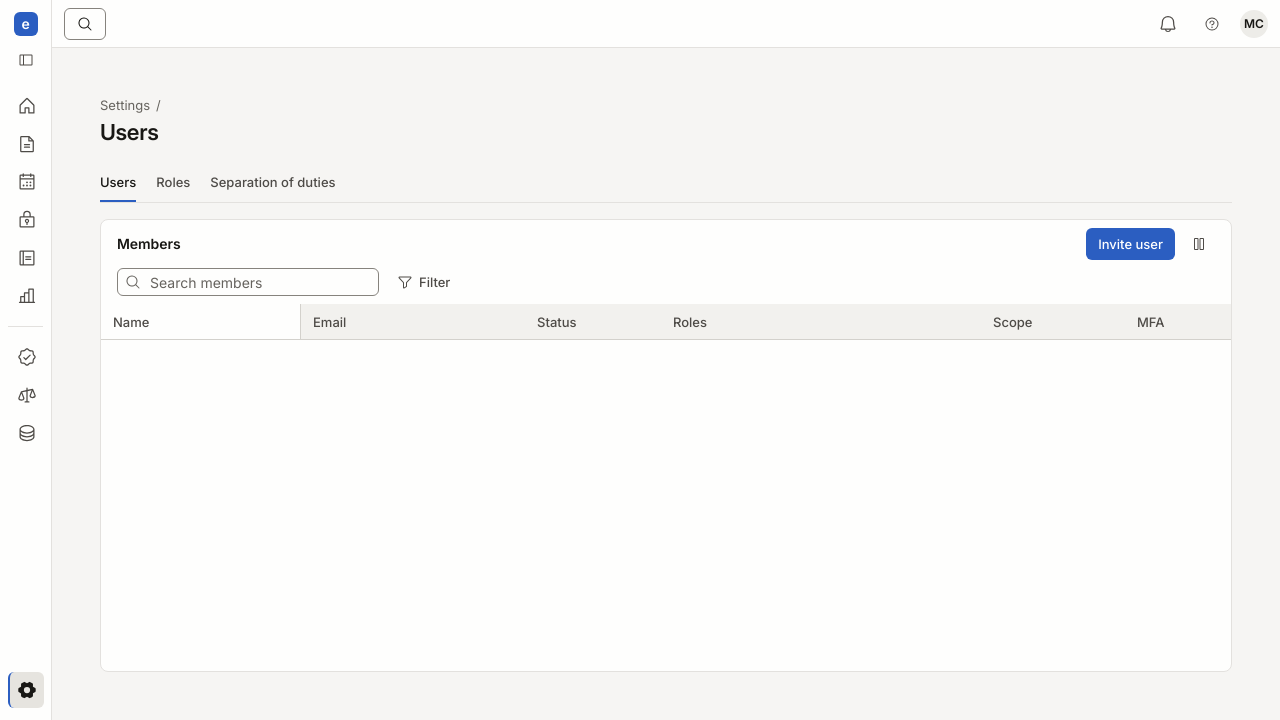
Test: SF-14 › Invite user opens the drawer with Email, Display name and repeatable Role and Scope rows
This screenshot has width=1280, height=720.
Click the button "Invite user".
click(1131, 244)  # box x1=1086 y1=228 x2=1175 y2=260
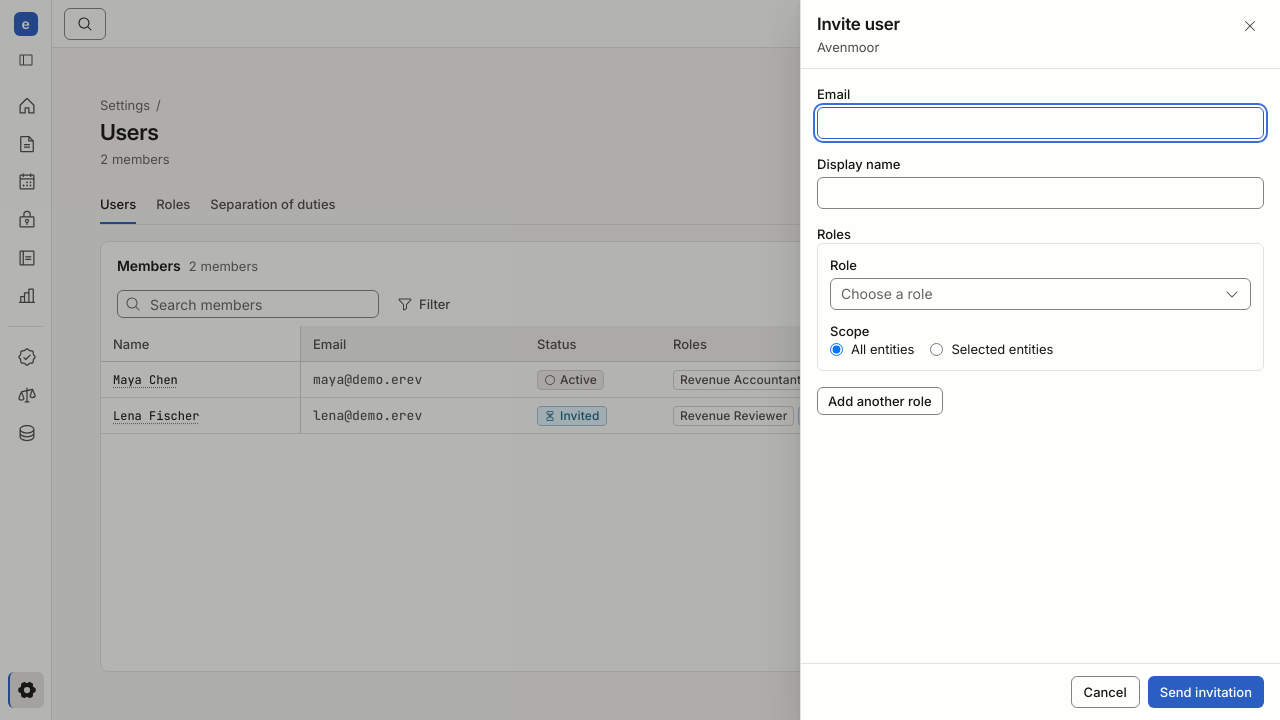
Expected: the form with test id "SF-14-drawer-invite" is shown, x1=817 y1=85 x2=1264 y2=415
Expected: the field labelled "Email" is shown, x1=817 y1=107 x2=1264 y2=139
Expected: the field labelled "Display name" is shown, x1=817 y1=177 x2=1264 y2=209
Click the button "Add another role".
click(880, 401)  # box x1=817 y1=387 x2=943 y2=415
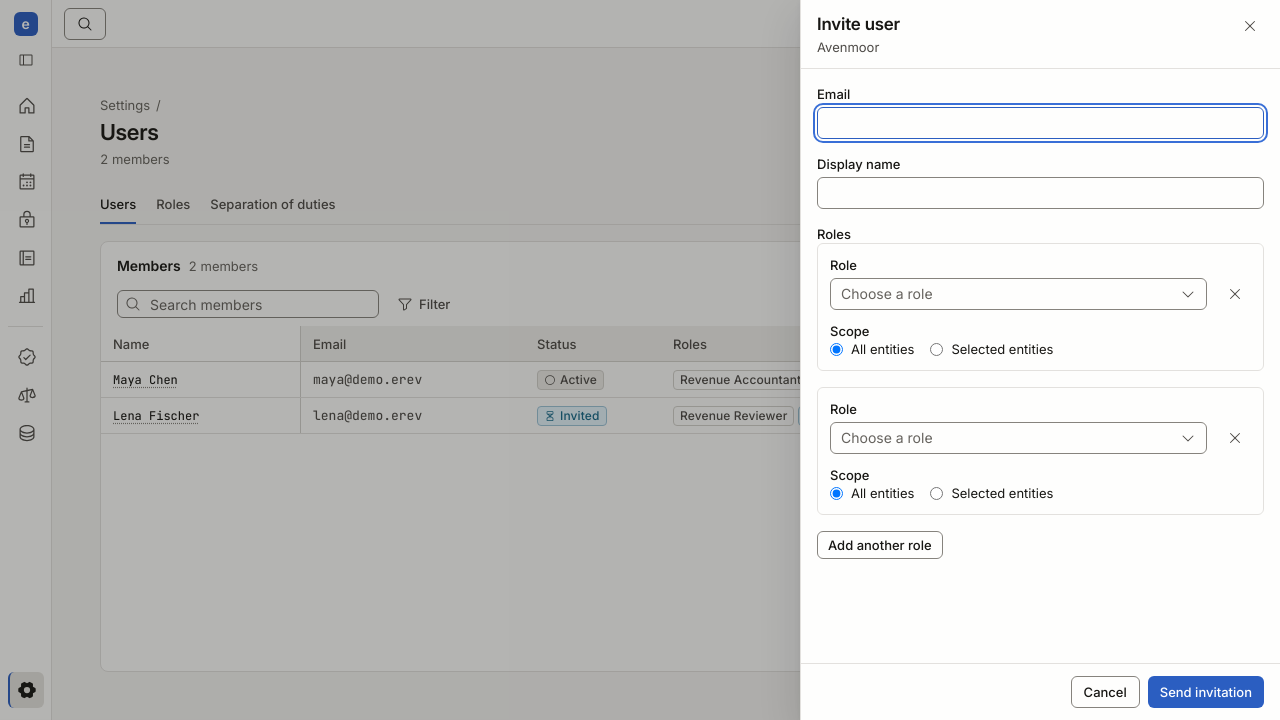
Expected: the number of dropdowns labelled "role" is 2, x1=830 y1=278 x2=1207 y2=310; x1=830 y1=422 x2=1207 y2=454
Expected: the button named "Remove role 2" is shown, x1=1219 y1=422 x2=1251 y2=454
Click the button "Send invitation".
click(1206, 692)  # box x1=1148 y1=676 x2=1264 y2=708
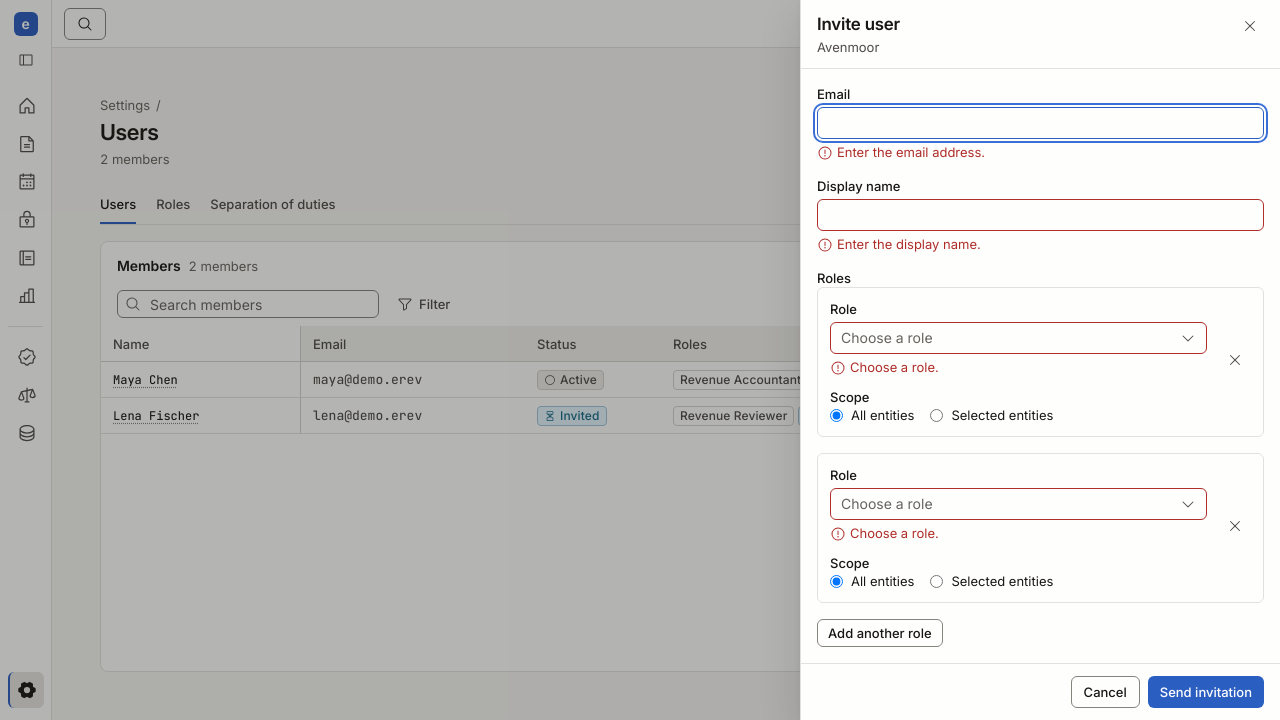
Expected: the text "Enter the email address." is shown, x1=817 y1=144 x2=985 y2=161
Expected: the text "Choose a role." is shown 2 times, x1=830 y1=359 x2=939 y2=376; x1=830 y1=525 x2=939 y2=542
